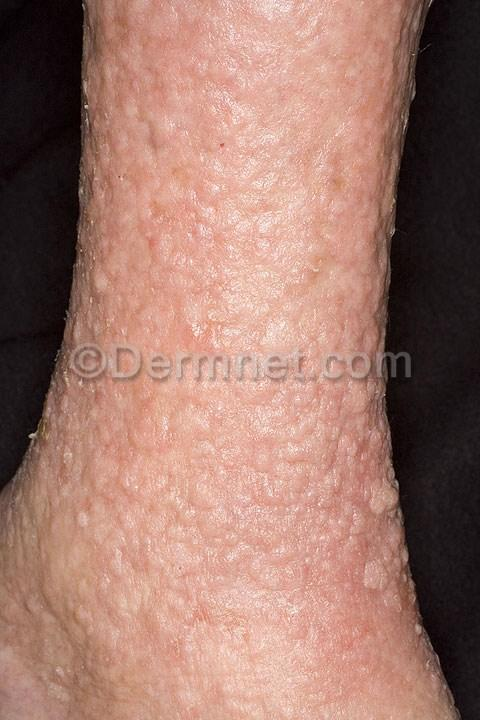Eczema: (257, 247, 389, 379), (277, 1, 388, 146), (90, 509, 199, 650), (155, 0, 280, 122), (187, 279, 287, 428), (0, 502, 93, 630), (309, 497, 405, 614), (225, 126, 304, 268), (291, 381, 381, 499), (243, 560, 336, 669), (133, 391, 220, 504), (126, 187, 218, 291), (29, 406, 132, 497), (295, 150, 391, 247), (220, 433, 297, 553), (142, 80, 218, 195), (45, 305, 118, 412), (127, 295, 204, 393), (194, 510, 247, 647), (74, 5, 149, 99), (0, 630, 102, 699), (187, 645, 267, 720), (364, 625, 429, 709), (281, 656, 364, 720), (83, 105, 129, 218), (385, 0, 428, 115), (67, 219, 126, 300), (107, 648, 178, 706)
